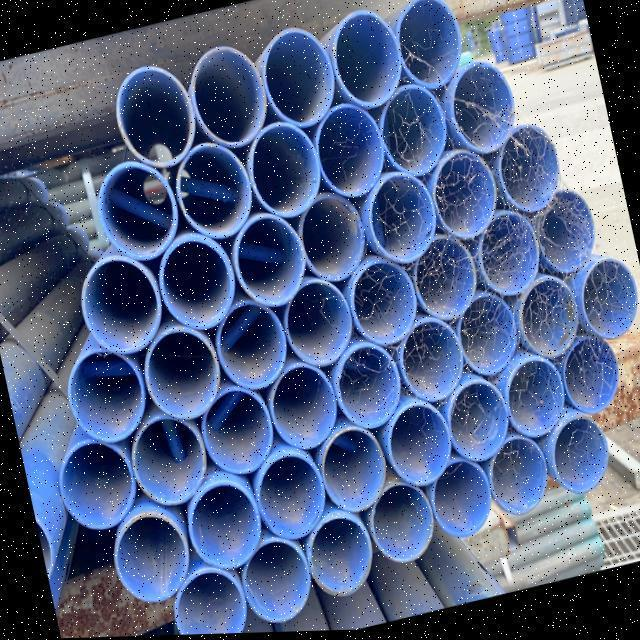pipe: (116, 70, 201, 172), (189, 52, 272, 154), (81, 259, 166, 356), (99, 163, 179, 265), (258, 34, 341, 132), (68, 349, 149, 446), (325, 17, 402, 118), (198, 395, 287, 481), (396, 1, 475, 96), (249, 125, 324, 223), (311, 110, 387, 206), (158, 241, 237, 333), (144, 331, 223, 423), (62, 441, 141, 532), (176, 148, 252, 241), (214, 305, 292, 393), (233, 217, 306, 310), (133, 420, 209, 509), (188, 486, 263, 576), (365, 180, 439, 271), (403, 239, 476, 331), (114, 517, 190, 604), (448, 68, 517, 162), (348, 267, 424, 351), (298, 197, 368, 287), (430, 159, 497, 251), (333, 351, 404, 437), (285, 283, 355, 370), (378, 95, 447, 183), (269, 369, 337, 458), (256, 460, 327, 545), (239, 548, 311, 630), (498, 128, 561, 219), (387, 404, 452, 491), (320, 435, 385, 521), (399, 329, 466, 412), (518, 279, 584, 363), (480, 218, 542, 304), (307, 518, 372, 600), (536, 196, 598, 281), (448, 382, 510, 467), (371, 486, 436, 567), (503, 365, 565, 448), (457, 303, 519, 384), (580, 266, 638, 352), (489, 441, 548, 524), (432, 462, 491, 545), (175, 570, 249, 636), (560, 342, 617, 425), (553, 424, 608, 504)
